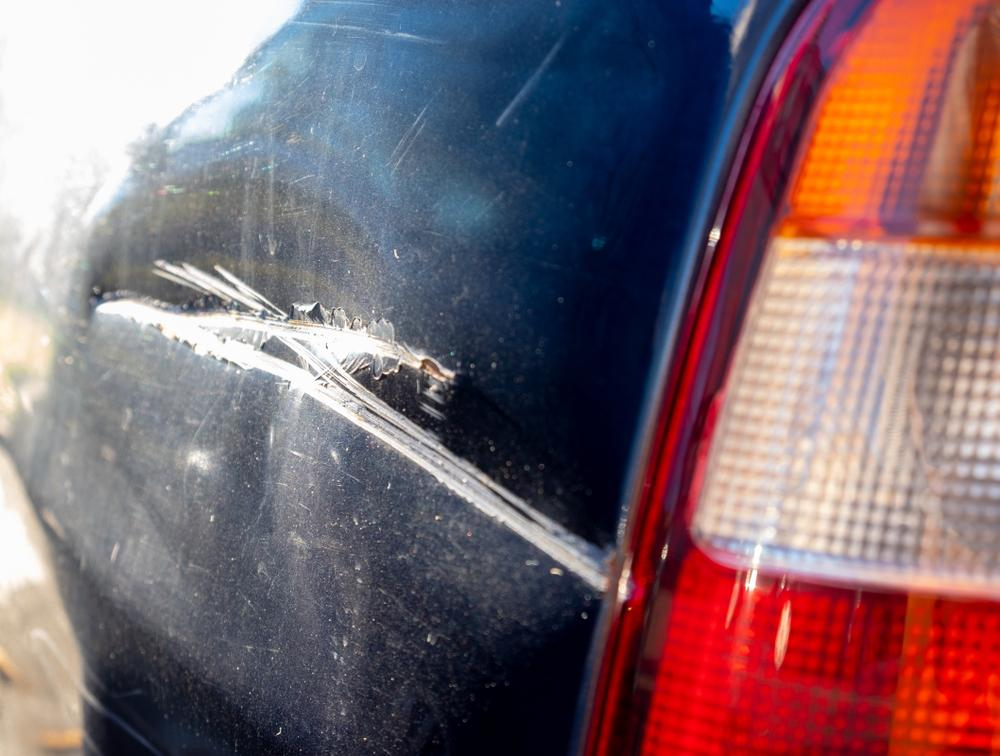dent: (78, 180, 392, 740)
scratch: (365, 327, 622, 598)
